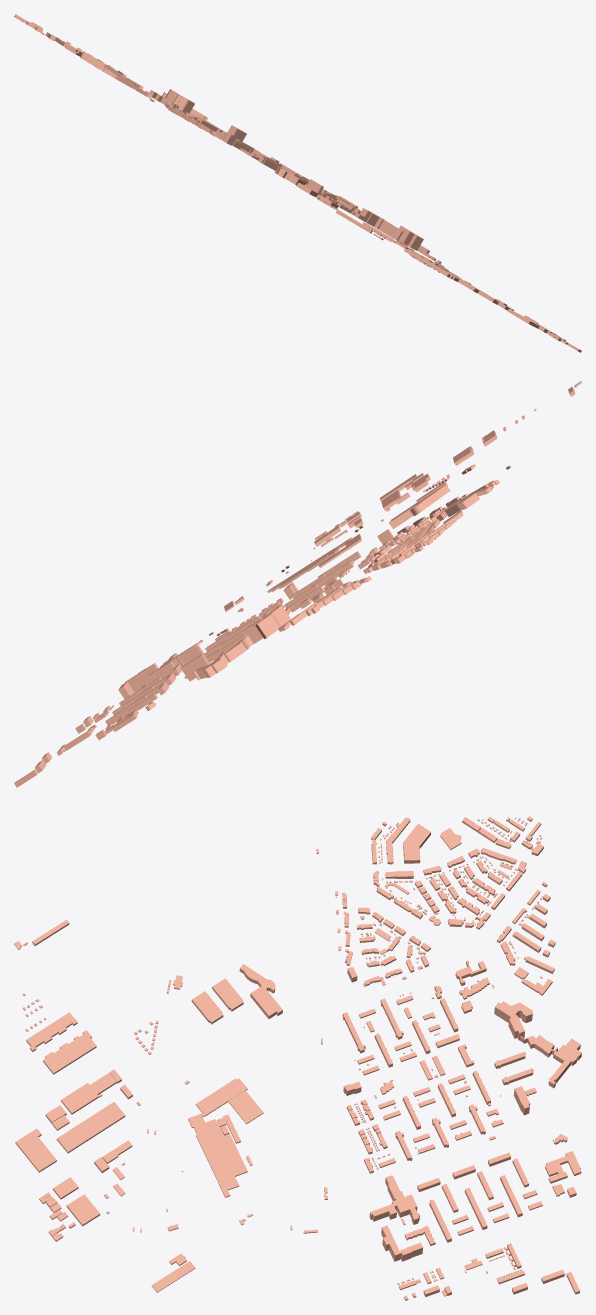
3 views of the same model, one above another, from view 1: azimuth 30°, elevation 25°; view 2: azimuth 150°, elevation 25°; view 3: azimuth 270°, elevation 25° (orthographic). The views are drawn at different scales.
Size of the model in its own units: 989 by 756 by 1277.
